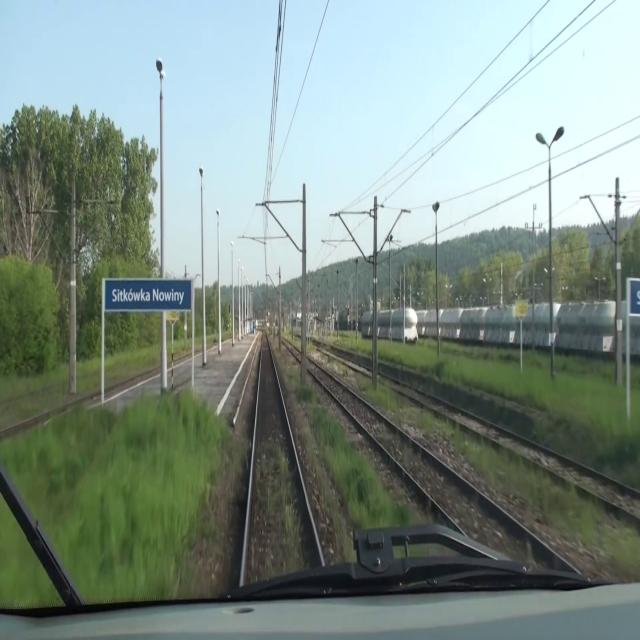rail-track: (307, 359, 558, 562), (388, 380, 640, 513), (244, 333, 321, 585)
